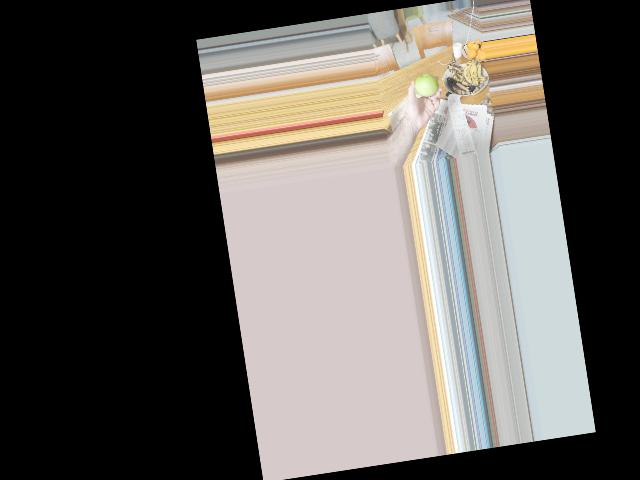apple: (410, 69, 439, 101)
